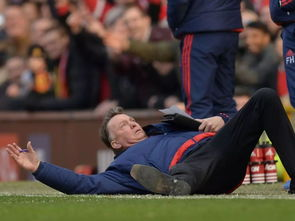10+: (1, 1, 295, 195)
down: (7, 83, 294, 195)
